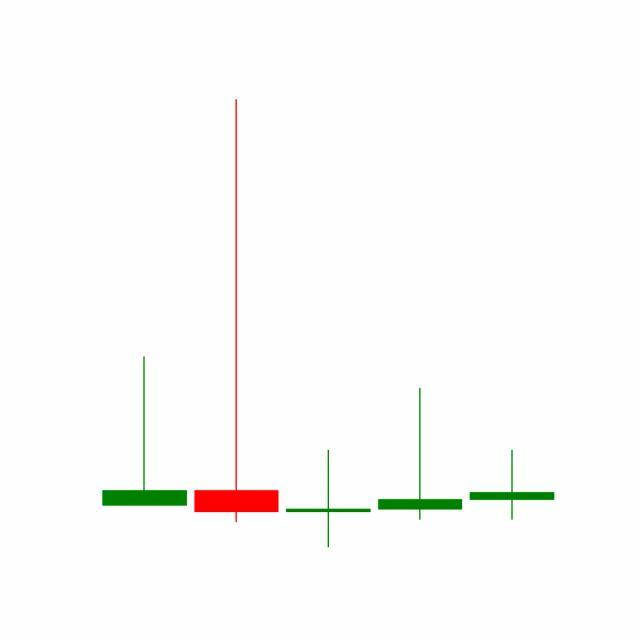Spinning Top: (374, 386, 468, 523)
